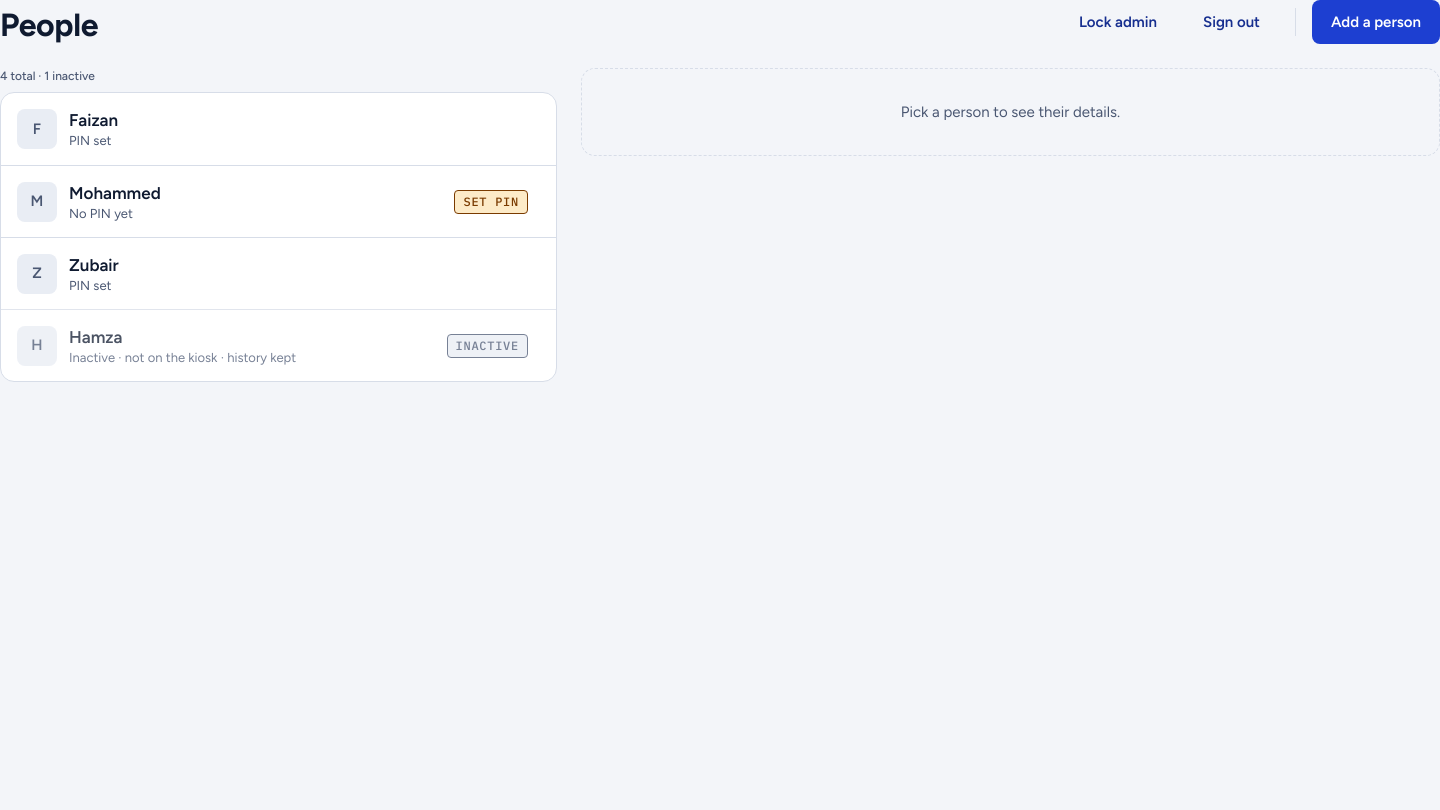
Test case: People › says Reset PIN where one is already set
Click the list item "Z Zubair PIN set": (37, 274) [1,237,556,309]
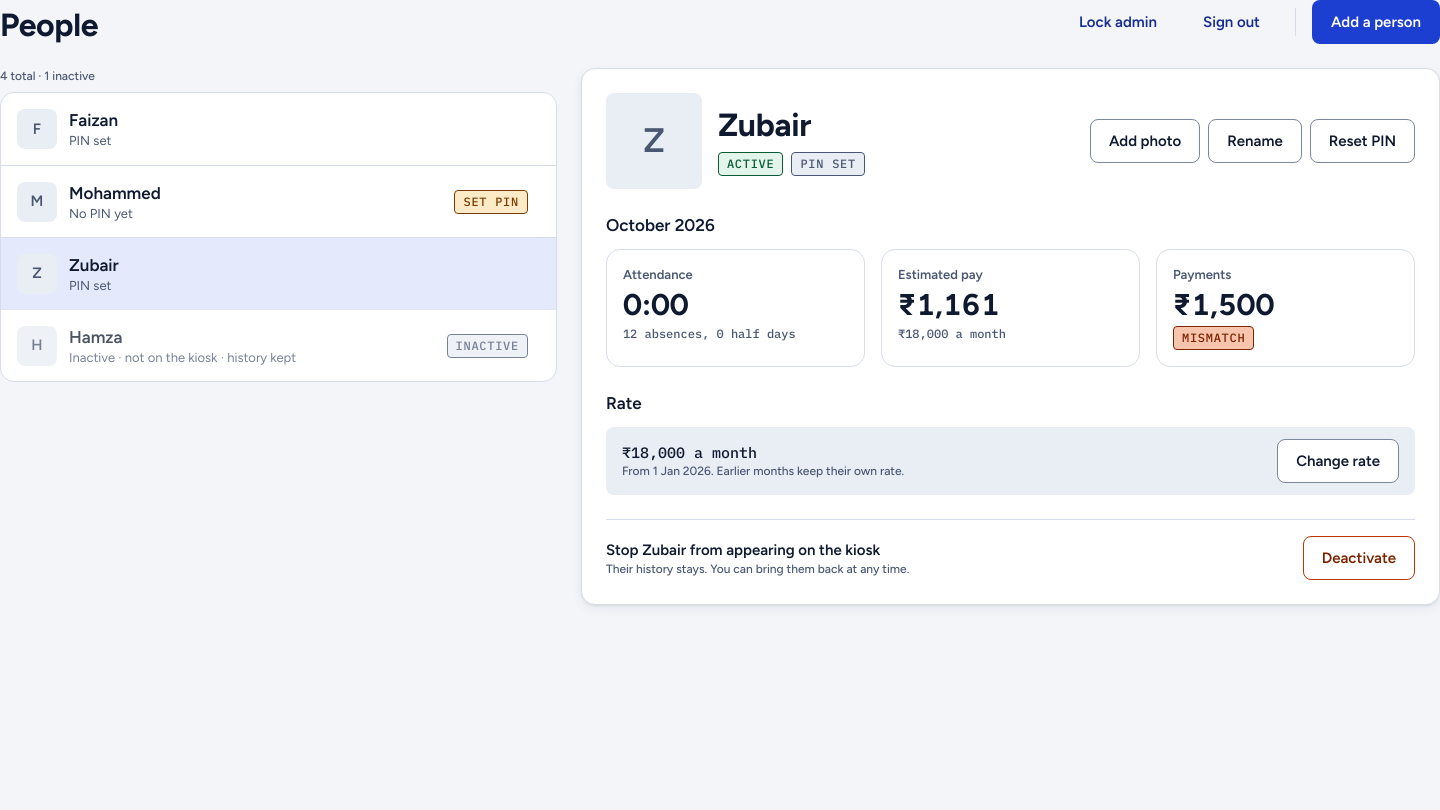
Click the button "Reset PIN": (1362, 141) [1310,119,1415,163]
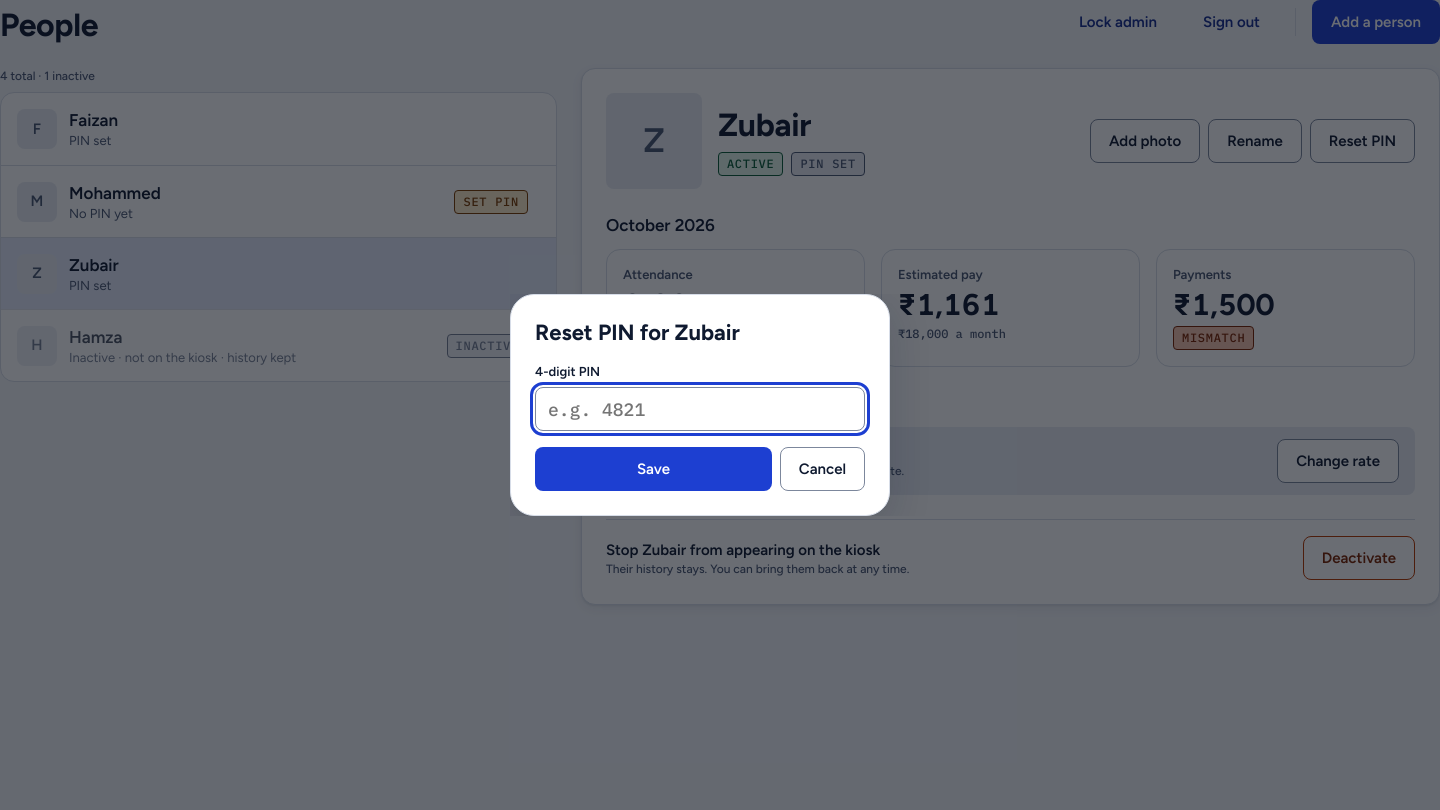
Now the heading "Reset PIN for Zubair" is shown, box [535,319,740,346]
